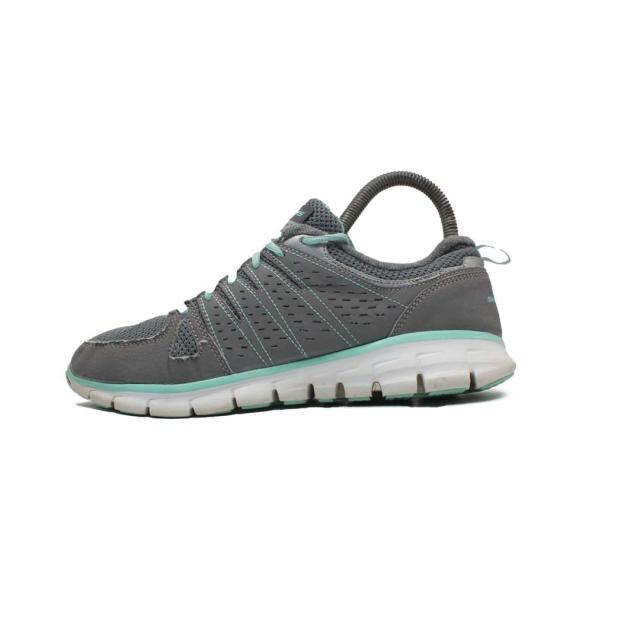heel: (453, 234, 514, 337)
midsole: (63, 328, 513, 418)
uppersole: (64, 200, 475, 394)
